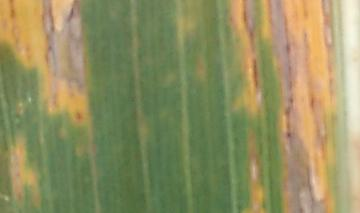tarspot: (284, 107, 296, 117), (286, 97, 297, 106), (285, 130, 294, 139), (284, 119, 294, 127)
